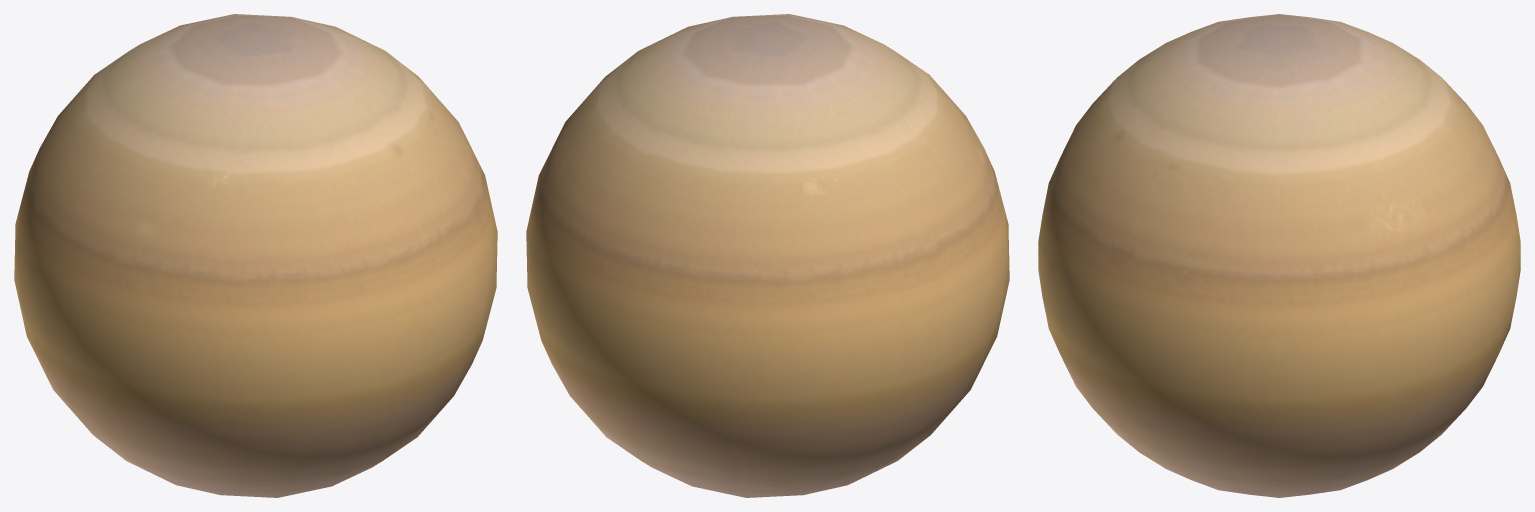
Rendered from Saturn.fbx.
The picture shows the model from 3 angles, left to right: view 1: azimuth 30°, elevation 25°; view 2: azimuth 150°, elevation 25°; view 3: azimuth 270°, elevation 25°; orthographic projection.
Visible parts, largest first — view 1: LowPoly_Saturn; view 2: LowPoly_Saturn; view 3: LowPoly_Saturn.
Boxes of the visible parts, x1,y1,x2,y2 form: LowPoly_Saturn: (14,14,497,497); LowPoly_Saturn: (526,14,1009,497); LowPoly_Saturn: (1038,14,1520,497).
Bounding box in the file's own units: 78.72 × 79.1 × 78.61.
